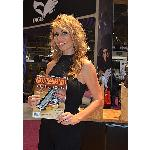Pistol: (34, 89, 57, 113)
